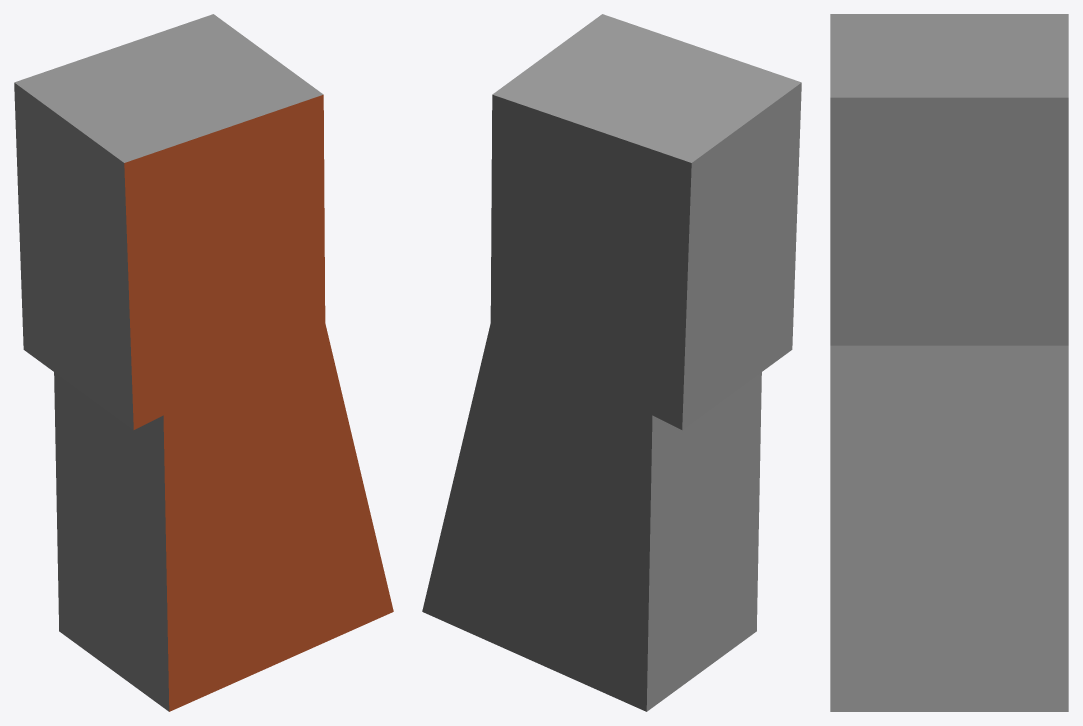
File: construction_5838_assumed_A_Casa_h6m.obj
The picture shows the model from 3 angles, left to right: view 1: azimuth 30°, elevation 25°; view 2: azimuth 150°, elevation 25°; view 3: azimuth 270°, elevation 25°; orthographic projection. The views are drawn at different scales.
Parts seen in each view (by area): view 1: construction_5838_assumed_A_Casa; view 2: construction_5838_assumed_A_Casa; view 3: construction_5838_assumed_A_Casa.
Boxes of the visible parts, x1=… form: construction_5838_assumed_A_Casa: x1=14, y1=14, x2=393, y2=711; construction_5838_assumed_A_Casa: x1=422, y1=14, x2=801, y2=711; construction_5838_assumed_A_Casa: x1=830, y1=14, x2=1068, y2=711.
Size of the model in its own units: 8.48 by 17.42 by 6.
